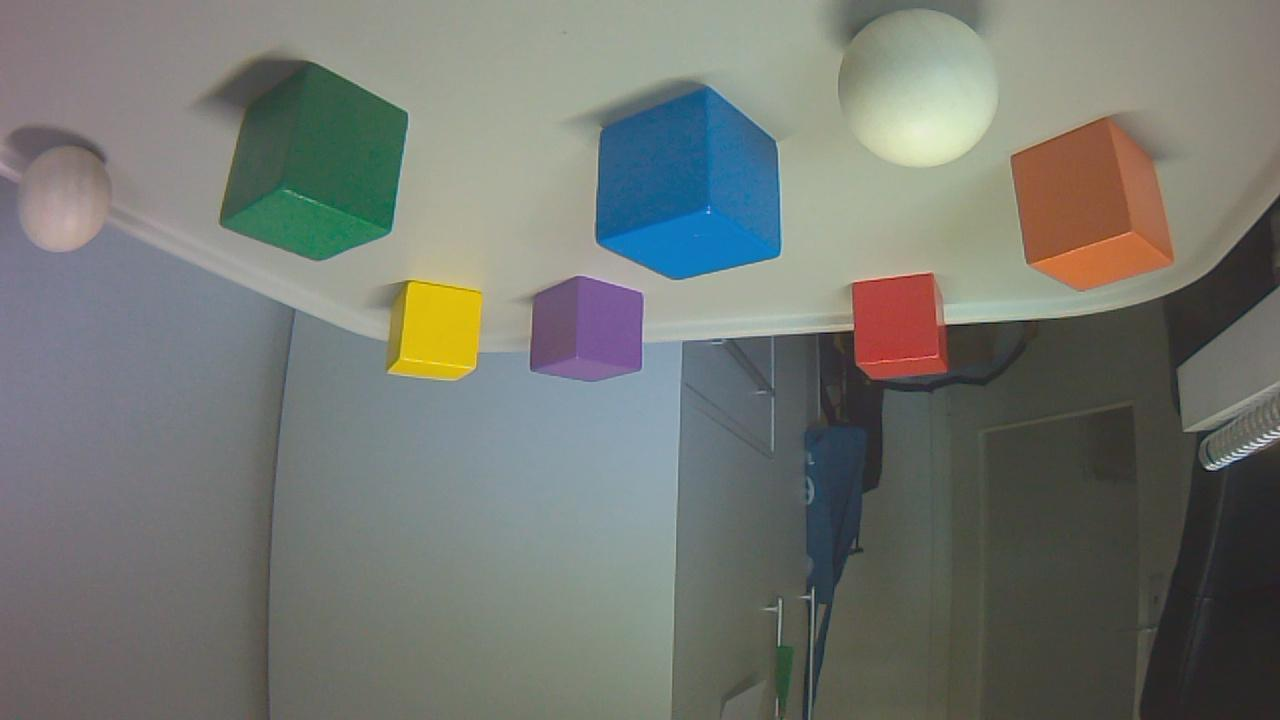ball: (839, 14, 1003, 165), (14, 154, 116, 253)
cube_blue: (592, 99, 785, 278)
cube_green: (225, 77, 409, 261)
cube_orange: (1010, 124, 1173, 292)
cube_purple: (533, 279, 646, 385)
cube_red: (848, 274, 952, 380)
cube_yellow: (386, 280, 479, 380)
